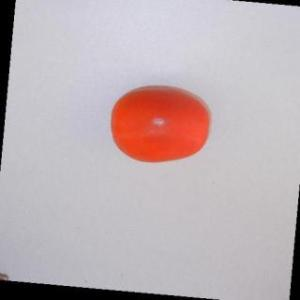tomato: (101, 78, 217, 176)
